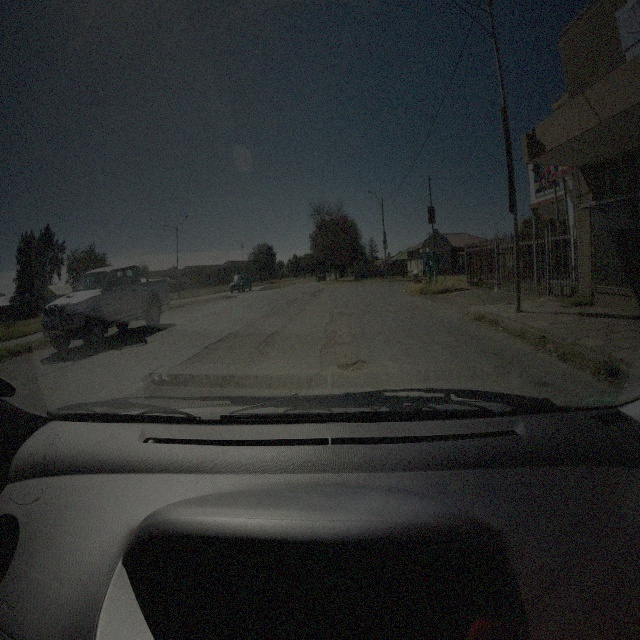pothole: (336, 356, 364, 372)
